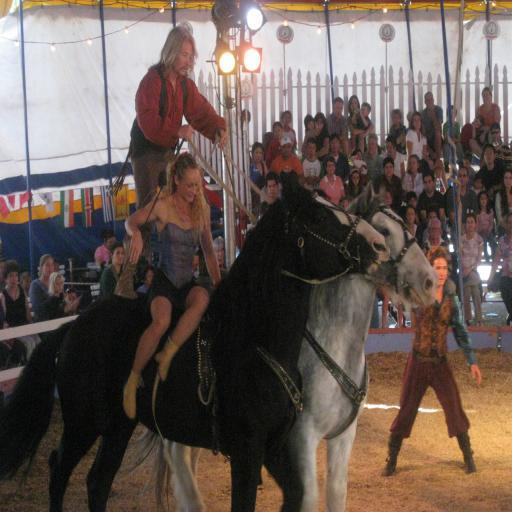Horse: (0, 168, 392, 512), (114, 176, 437, 512)
